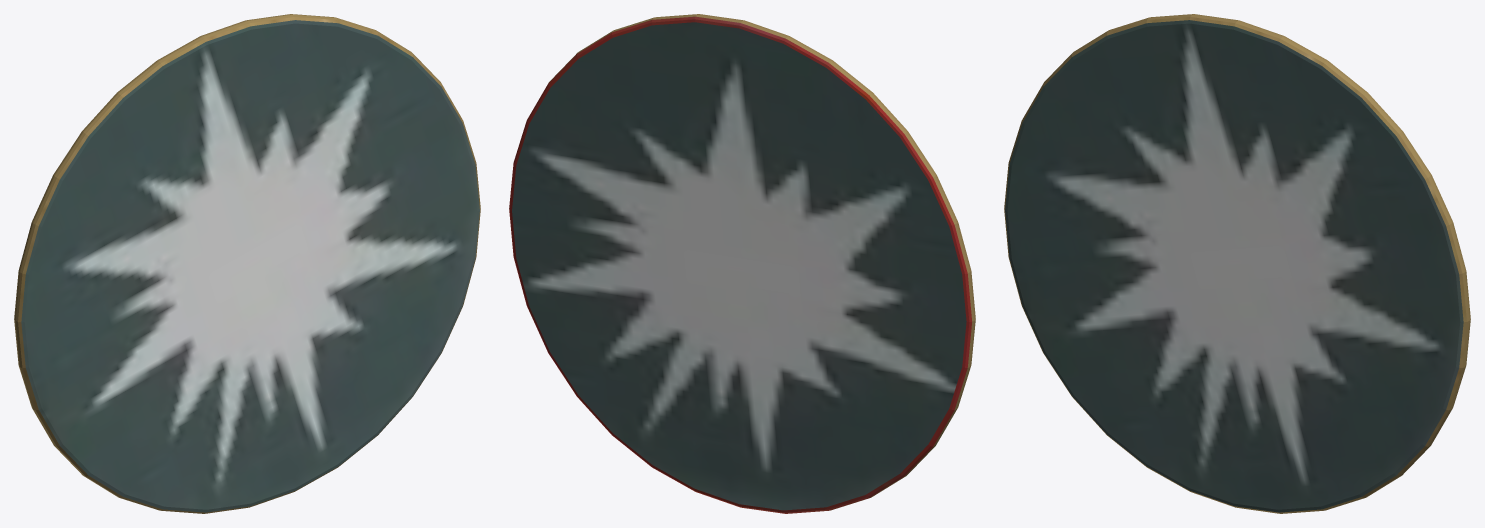
File: Crit coin.001.fbx
The picture shows the model from 3 angles, left to right: view 1: azimuth 30°, elevation 25°; view 2: azimuth 150°, elevation 25°; view 3: azimuth 330°, elevation 25°; orthographic projection.
Parts seen in each view (by area): view 1: Circle.012; view 2: Circle.012; view 3: Circle.012.
Part boxes in pixels (x1,y1,x2,y2): Circle.012: [14, 14, 480, 513]; Circle.012: [509, 14, 975, 513]; Circle.012: [1004, 14, 1470, 513].
Bounding box in the file's own units: 114 × 114 × 2.92.
Materials: 2 (2 with a texture image).
